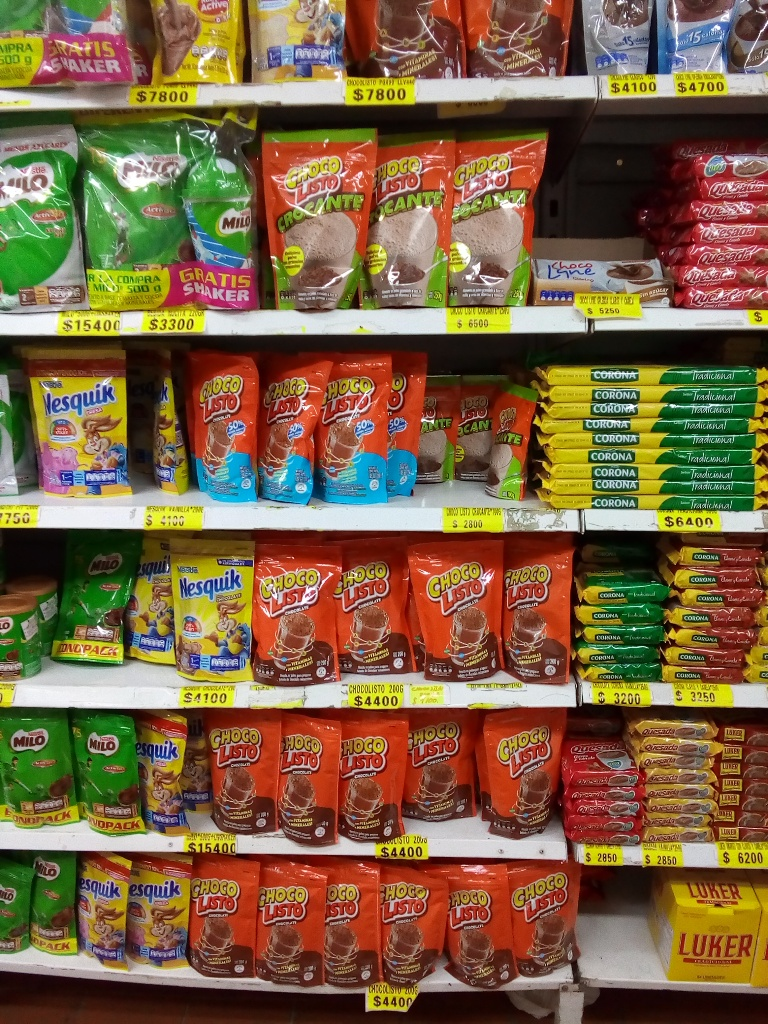COL0170102DYP10000: (450, 379, 497, 483)
COL0170102DYP25000: (253, 127, 369, 309)
COL0170103DYP20000: (187, 855, 259, 978)
COL0170104DYP20000: (177, 338, 260, 499)
COL0170203DYP10000: (1, 853, 31, 946)
COL0170203DYP25000: (57, 708, 146, 836)
COL0170203DYP50000: (68, 104, 196, 311)
COL0170203LAT20000: (2, 592, 44, 670)
COL0170205DYP50000: (2, 120, 86, 315)
COL0170303DYP20000: (116, 532, 184, 670)
